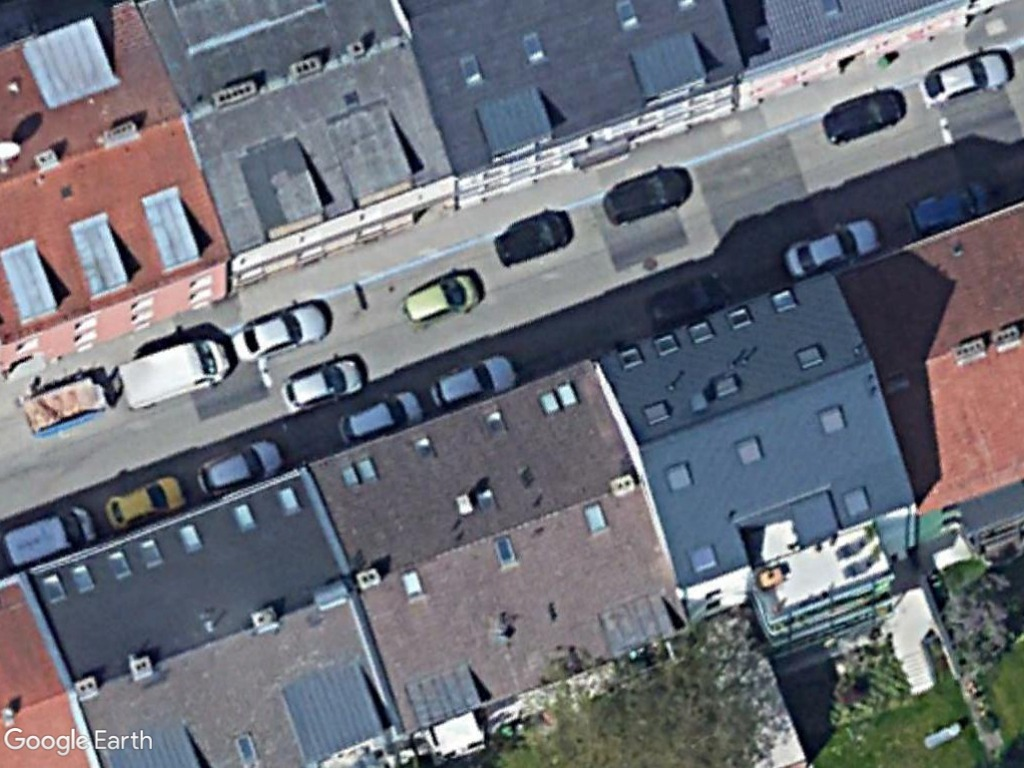car: (229, 295, 331, 364), (779, 215, 884, 281), (191, 433, 285, 503), (914, 47, 1013, 111), (425, 349, 520, 413), (600, 160, 691, 226), (903, 179, 997, 239), (397, 264, 483, 328), (490, 206, 574, 271), (336, 386, 425, 447), (279, 353, 365, 415), (821, 87, 909, 146), (104, 473, 185, 531)
van: (116, 328, 230, 416), (0, 499, 96, 575)
